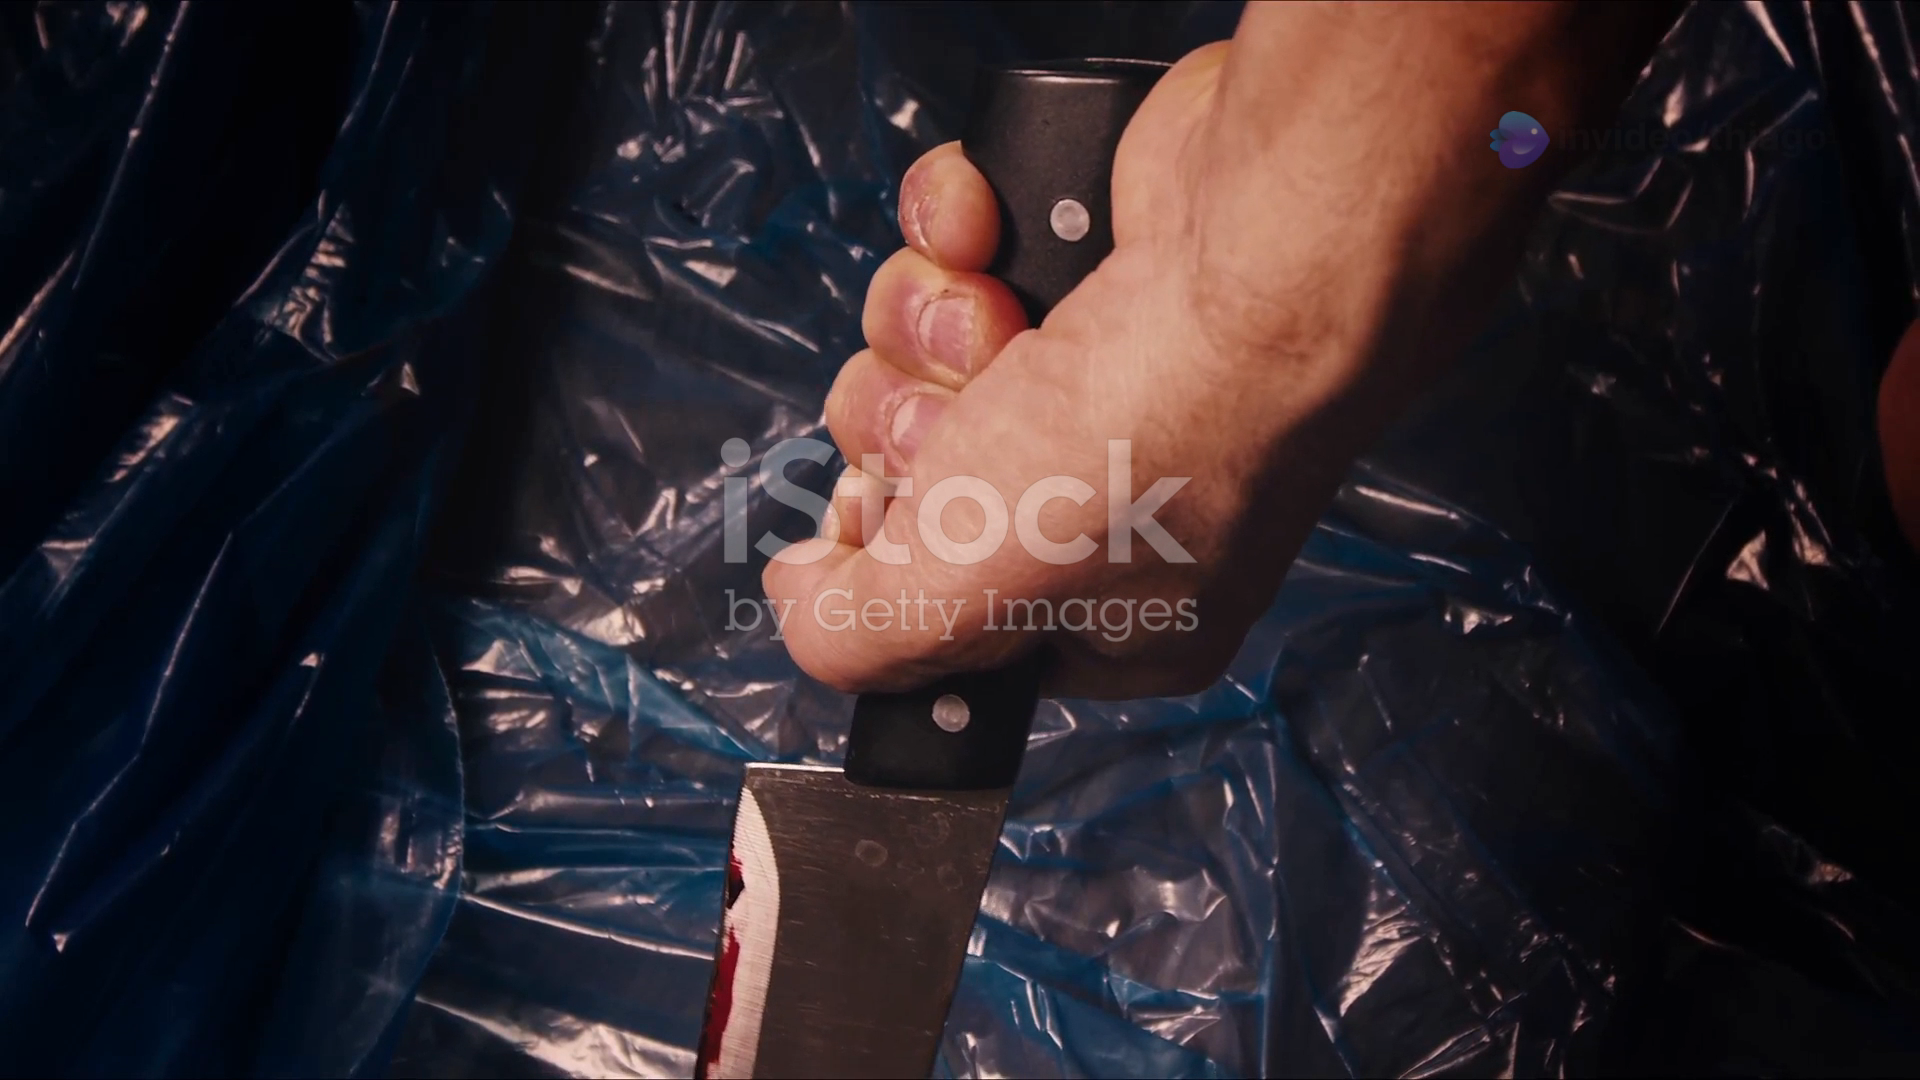cortante: (690, 761, 1013, 1080)
